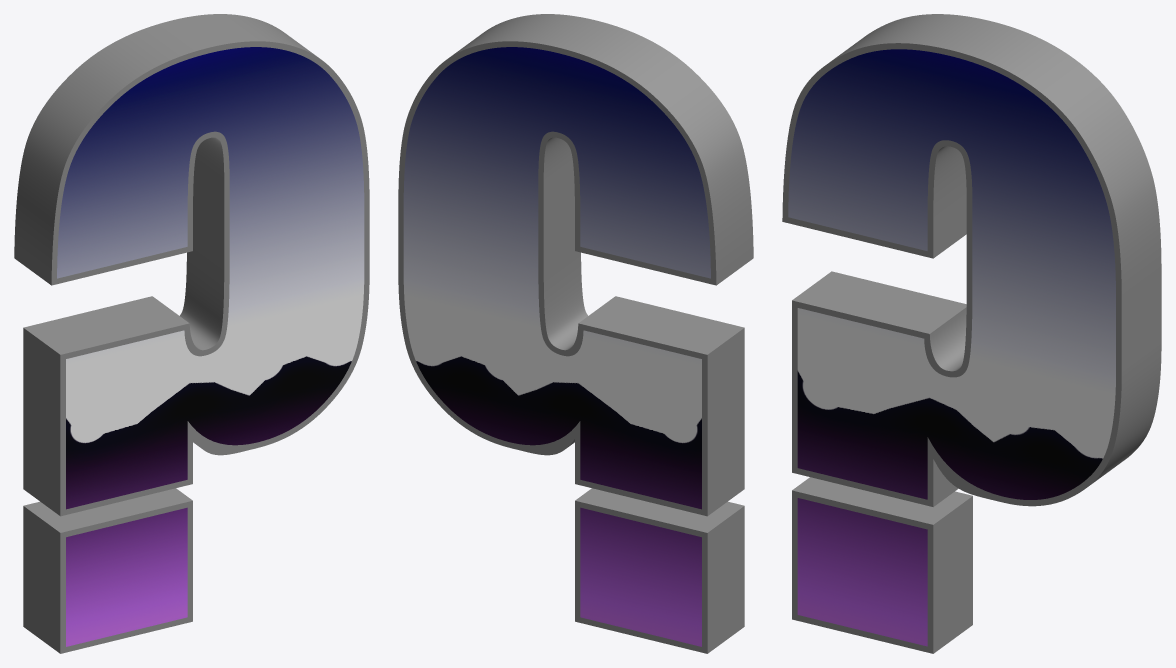
File: Question.FBX
The picture shows the model from 3 angles, left to right: view 1: azimuth 30°, elevation 25°; view 2: azimuth 150°, elevation 25°; view 3: azimuth 330°, elevation 25°; orthographic projection. The views are drawn at different scales.
Parts seen in each view (by area): view 1: Question, Question_outline; view 2: Question, Question_outline; view 3: Question, Question_outline.
Part boxes in pixels (bbox=[...]): Question: bbox=[57, 47, 364, 646]; Question_outline: bbox=[14, 14, 369, 653]; Question: bbox=[403, 47, 710, 646]; Question_outline: bbox=[398, 14, 753, 653]; Question: bbox=[788, 49, 1115, 646]; Question_outline: bbox=[782, 14, 1161, 653].
Bounding box in the file's own units: 59.16 × 101 × 12.
Materials: 2 (1 with a texture image).
